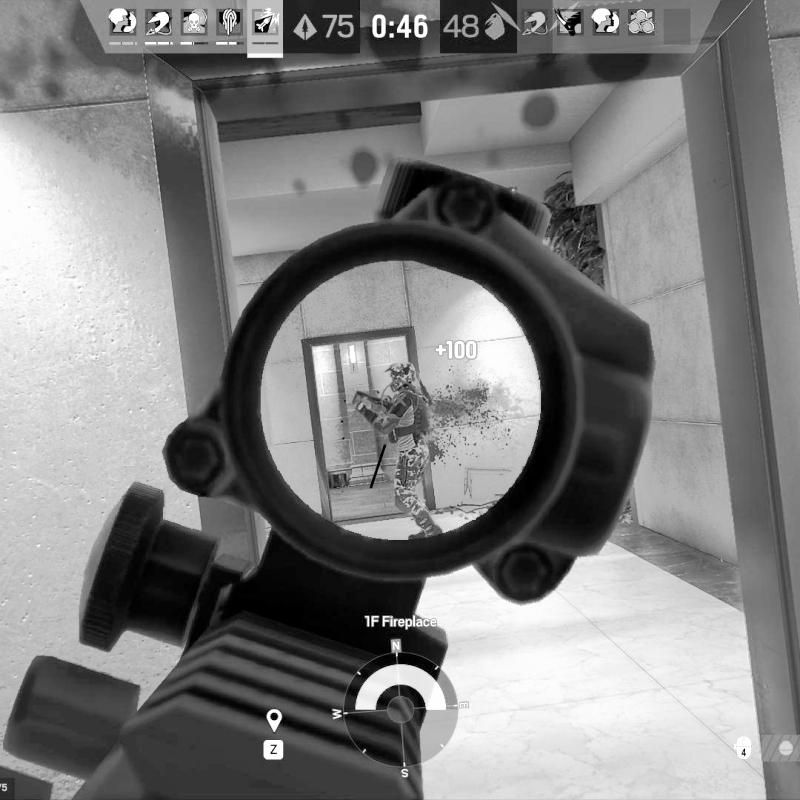Character: (349, 359, 447, 536)
Head: (384, 361, 419, 391)
